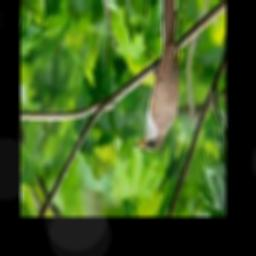Cuckoo: (133, 0, 180, 151)
